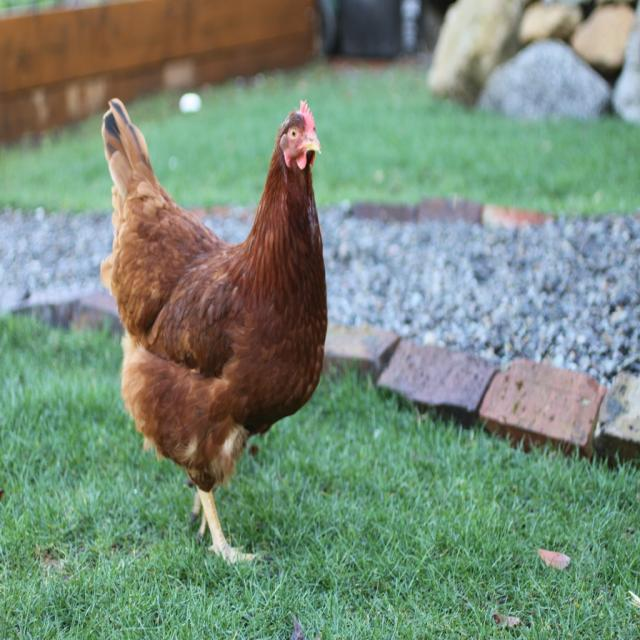Chicken: (101, 95, 326, 567)
